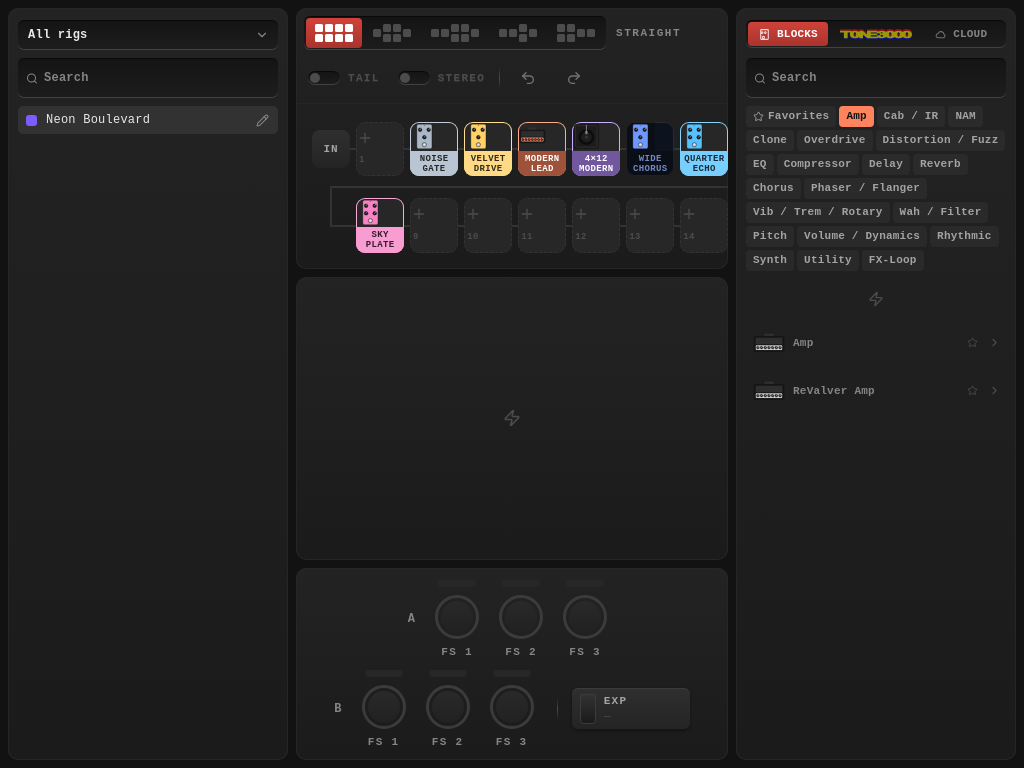
Test: RIG · CHAIN (HeadRush layout) › lists rigs in the left column and opens footswitches in the inspector
Expected: the button "Neon Boulevard" is shown, top-left (18, 106), bottom-right (278, 134)
Click the button with aria-label "Footswitch 2, bank A".
click(521, 619)  # box top-left (499, 580), bottom-right (543, 658)
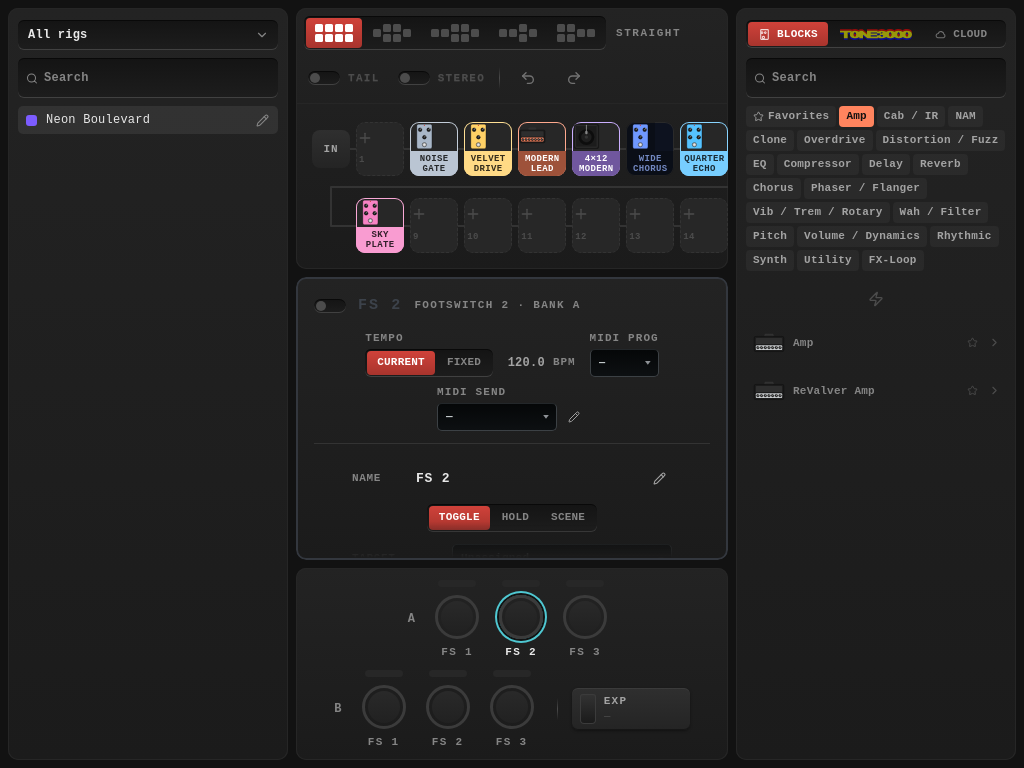
Now the text "FOOTSWITCH 2 · BANK A" is shown, box top-left (414, 300), bottom-right (581, 311)
Now the element named "Rig tempo and MIDI" is shown, box top-left (314, 333), bottom-right (710, 444)
Click the button with aria-label "Expression pedal".
click(631, 709)  # box top-left (572, 688), bottom-right (690, 730)
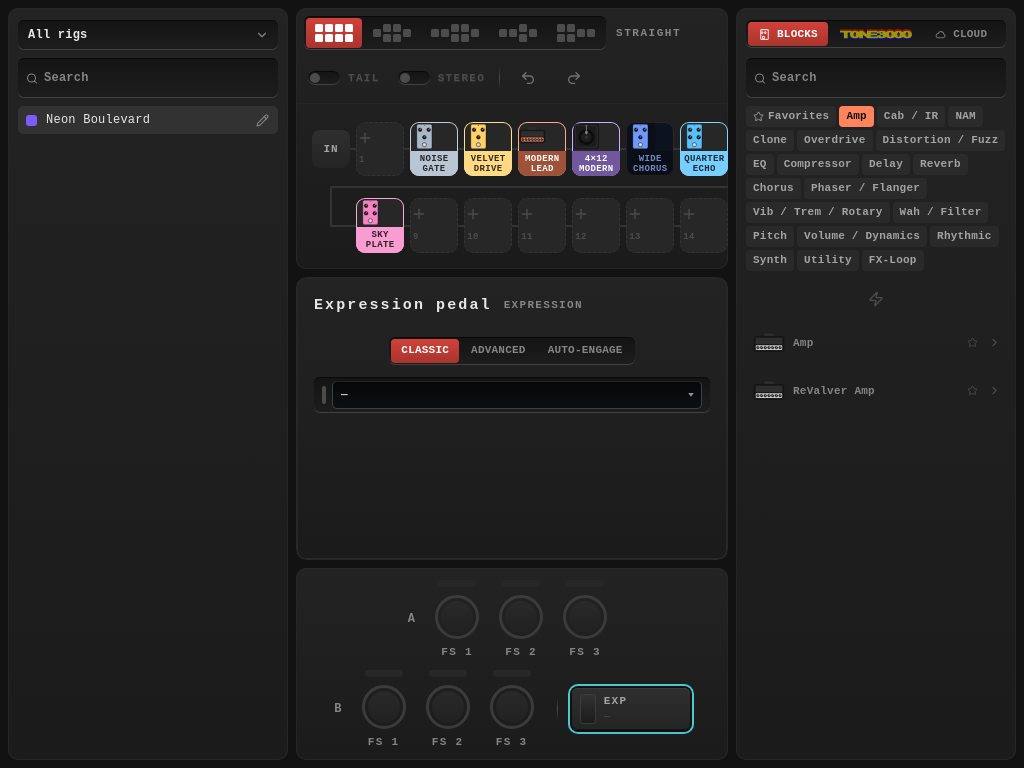
Now the text "Expression pedal" is shown, box top-left (314, 298), bottom-right (492, 313)
Now the element named "Pedal mode" is shown, box top-left (389, 337), bottom-right (635, 365)
